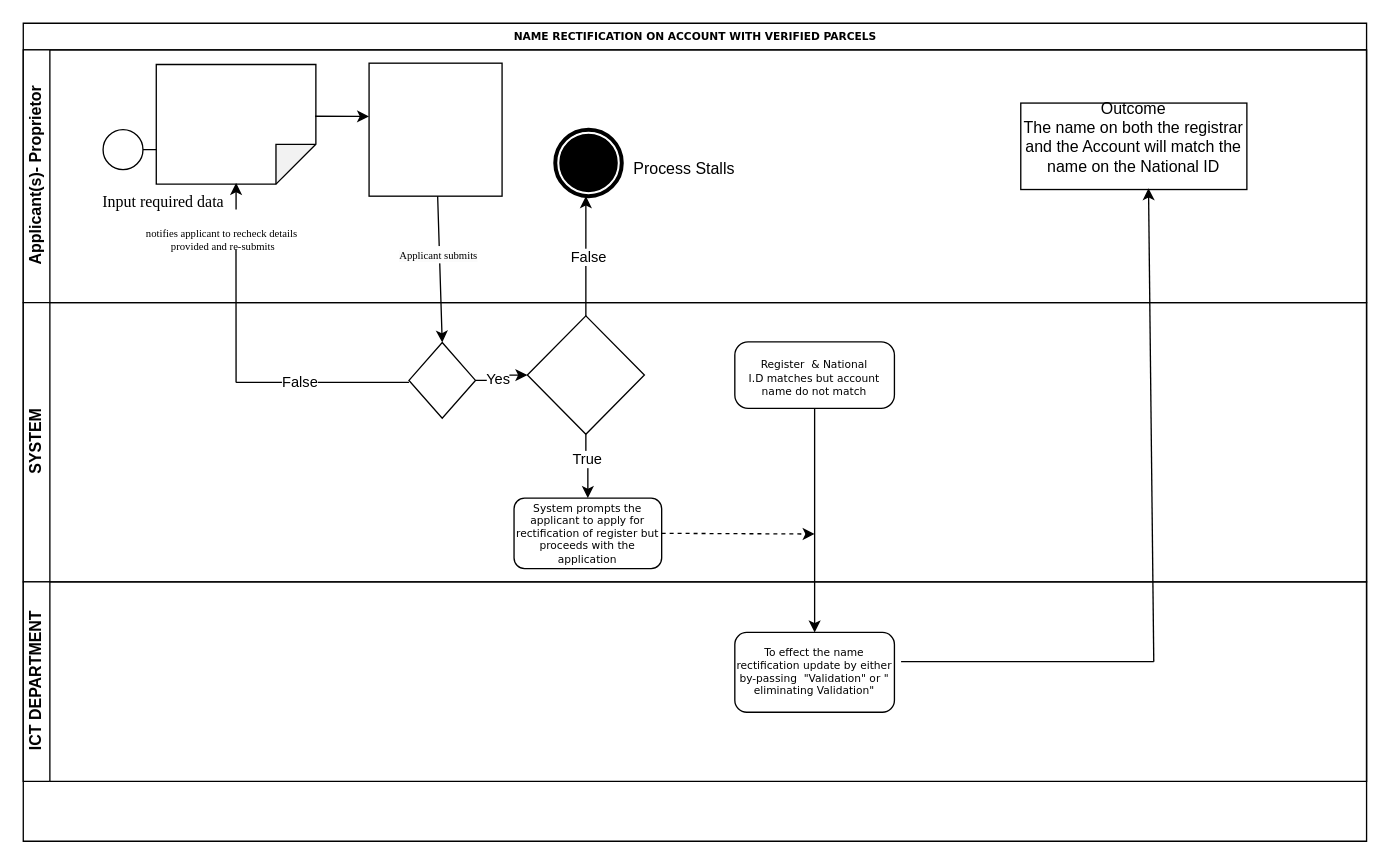
This 1390x865 diagram has some shape labels left out. Here are the shapes that lost their labels. From the top down, the box of each, then its label:
(155, 63, 316, 184): -Ardhisasa ID -Reference numbers of the verified parcels -Parcel numbers
(368, 62, 502, 196): Upload required documents National ID Affidavit copy(s) of title/lease
(408, 341, 475, 418): Validates
(526, 315, 644, 434): Account name & register do not match with the National ID
